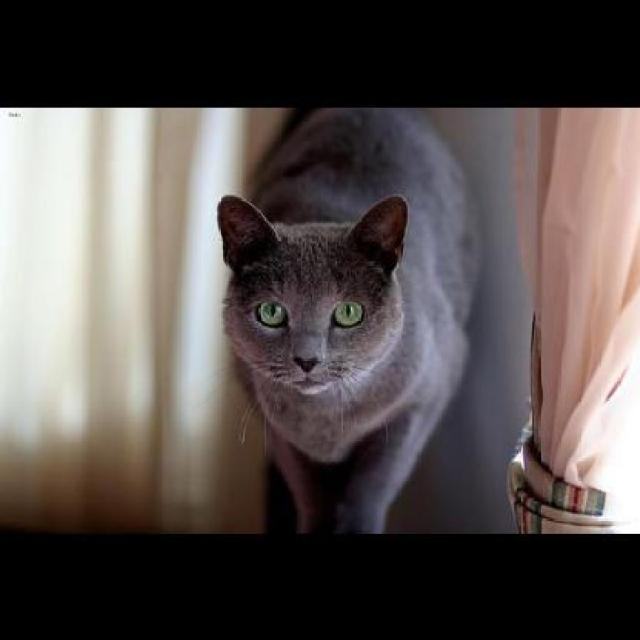unauthorized: (215, 106, 483, 534)
